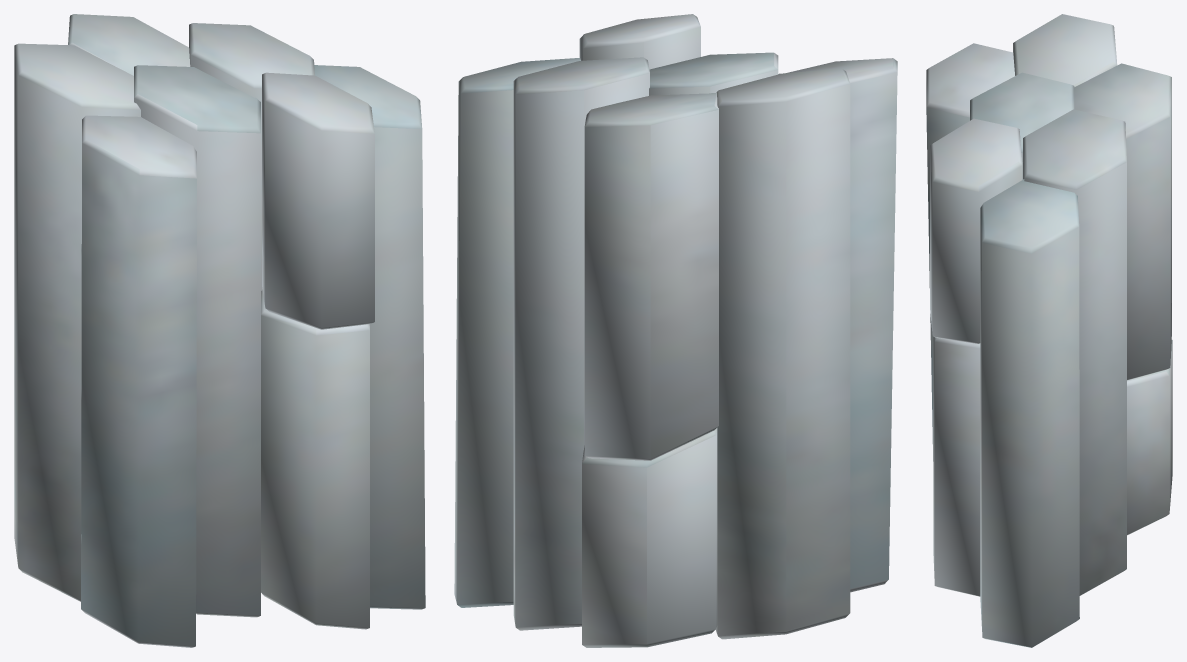
The model's file is P_RockHexic_RockSlanted05.obj.
The picture shows the model from 3 angles, left to right: view 1: azimuth 30°, elevation 25°; view 2: azimuth 150°, elevation 25°; view 3: azimuth 270°, elevation 25°; orthographic projection. The views are drawn at different scales.
Size of the model in its own units: 12.67 by 18.48 by 8.52.
